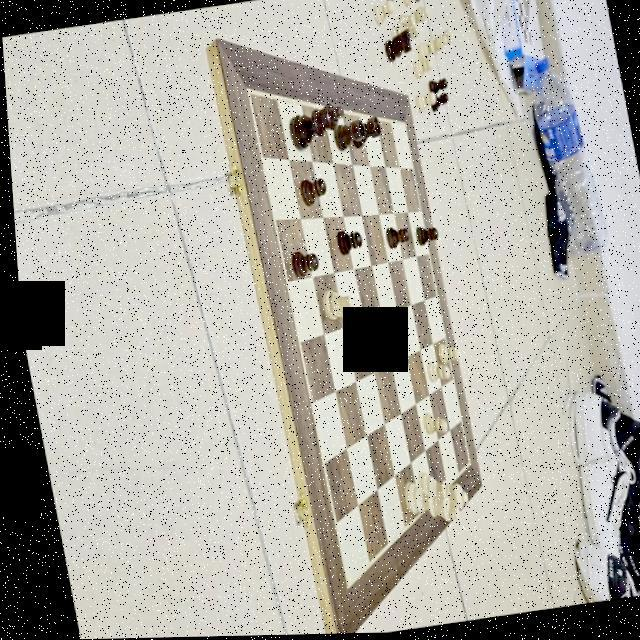chess-table-corners: (240, 82, 253, 106), (334, 576, 344, 594), (458, 460, 466, 470), (399, 120, 405, 132)
